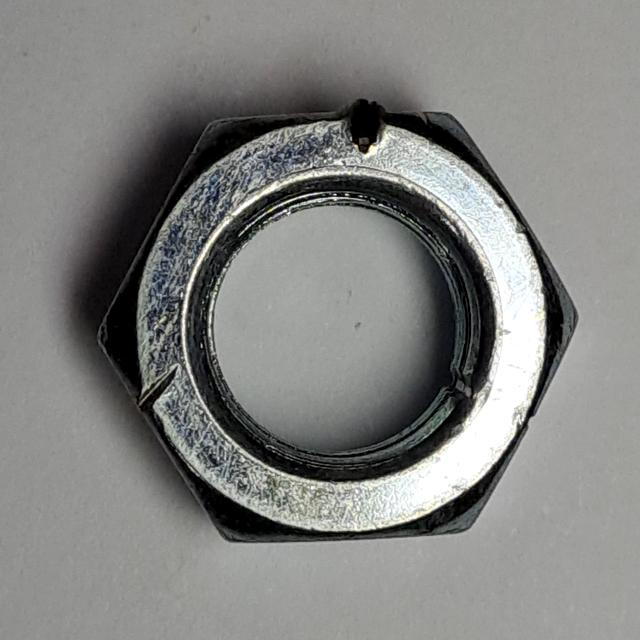Scratches: (87, 89, 591, 556)
